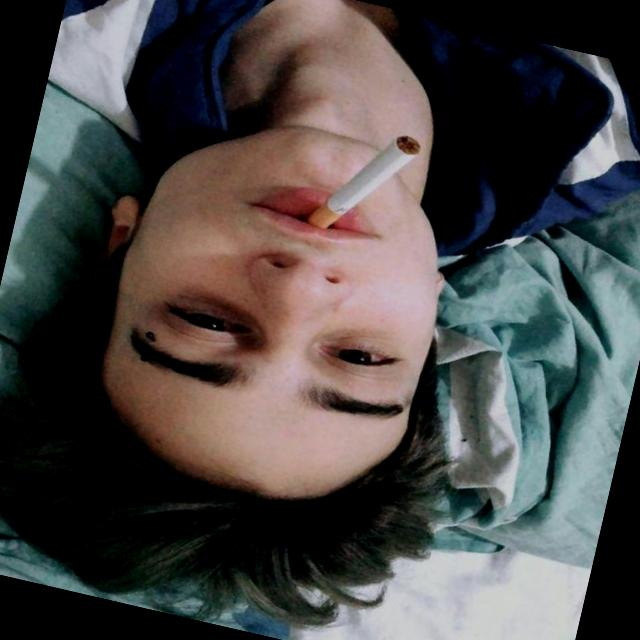cigarette: (296, 106, 428, 262)
